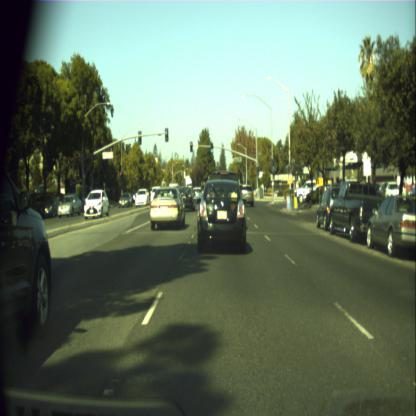Green: (118, 164, 121, 176), (210, 142, 213, 153), (272, 160, 274, 170), (256, 166, 258, 174)
Red: (190, 140, 192, 152)
